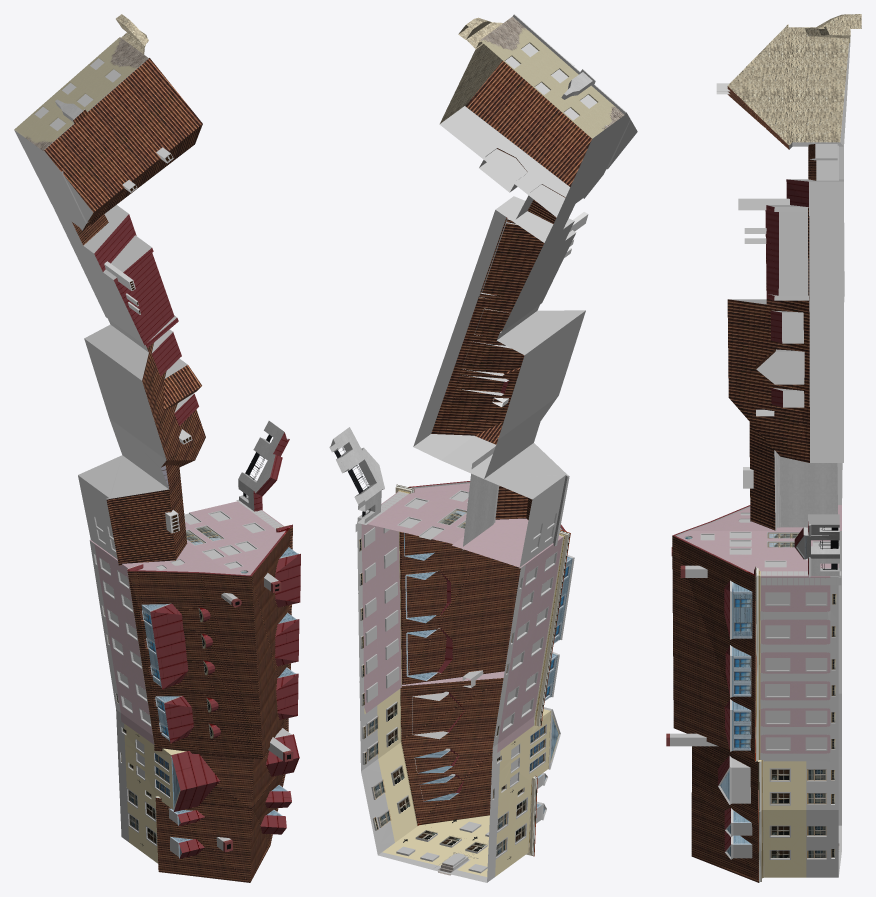
File: Kiriku_poik_1.obj
The picture shows the model from 3 angles, left to right: view 1: azimuth 30°, elevation 25°; view 2: azimuth 150°, elevation 25°; view 3: azimuth 270°, elevation 25°; orthographic projection. The views are drawn at different scales.
Visible parts, largest first — view 1: Kiriku_poik_1; view 2: Kiriku_poik_1; view 3: Kiriku_poik_1.
Boxes of the visible parts, left/top/right/bottom form: Kiriku_poik_1: left=14, top=14, right=300, bottom=882; Kiriku_poik_1: left=329, top=14, right=637, bottom=882; Kiriku_poik_1: left=666, top=14, right=861, bottom=882.
Size of the model in its own units: 33.52 by 102 by 22.04.
